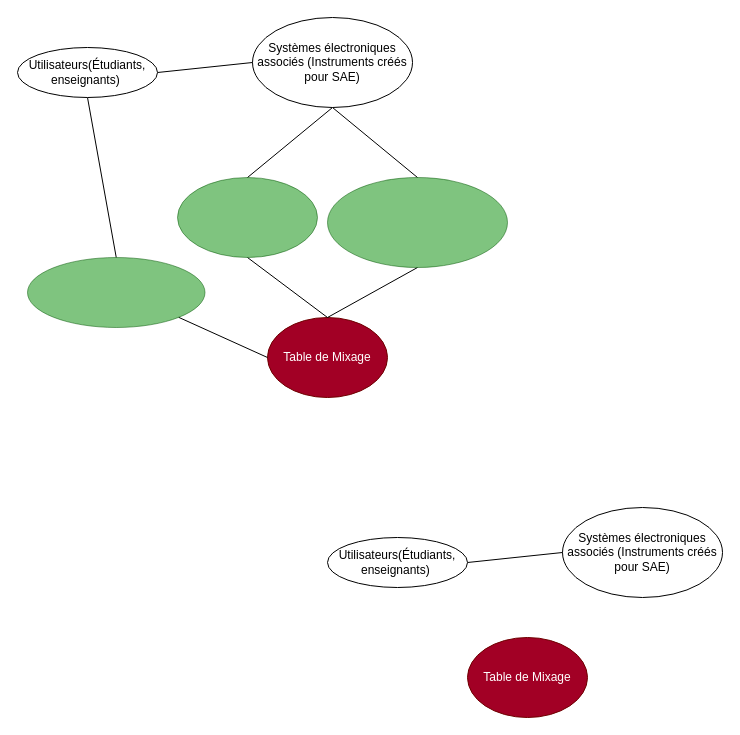
The diagram is 740 pixels wide and 735 high, and some of its shapes have lost their labels. Here are the shapes that lost their labels. From the top down, the centre of each, then its label:
At (x=247, y=217): "FP3 Assurer une restitution sonore claire et de qualité".
At (x=417, y=222): "FP1 Assurer la synchronisation audio entre instruments".
At (x=115, y=292): "FP2 Fournir un contrôle des paramètres audio en temps réel".
